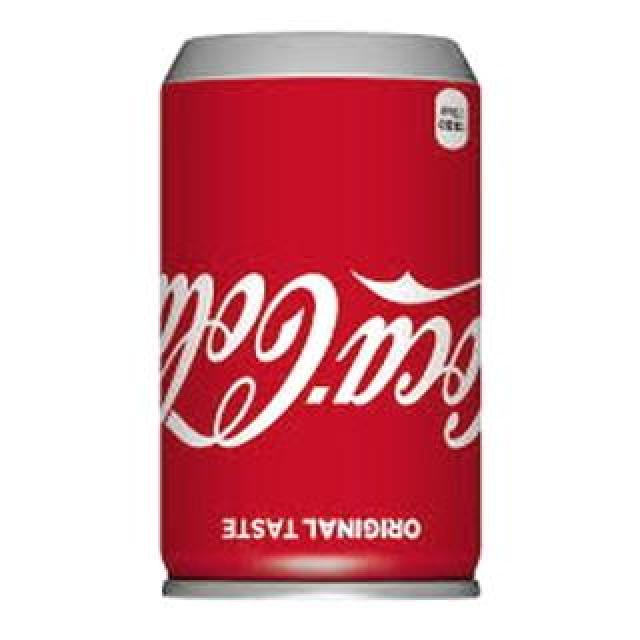Can: (138, 22, 500, 612)
